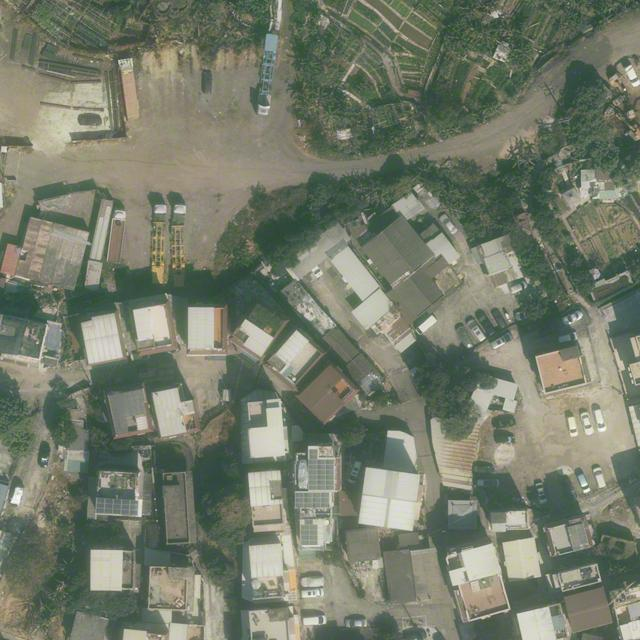SolarPanel: (308, 460, 334, 490), (95, 498, 138, 515), (296, 493, 330, 507), (301, 525, 317, 545), (310, 449, 317, 459), (305, 520, 313, 525)
